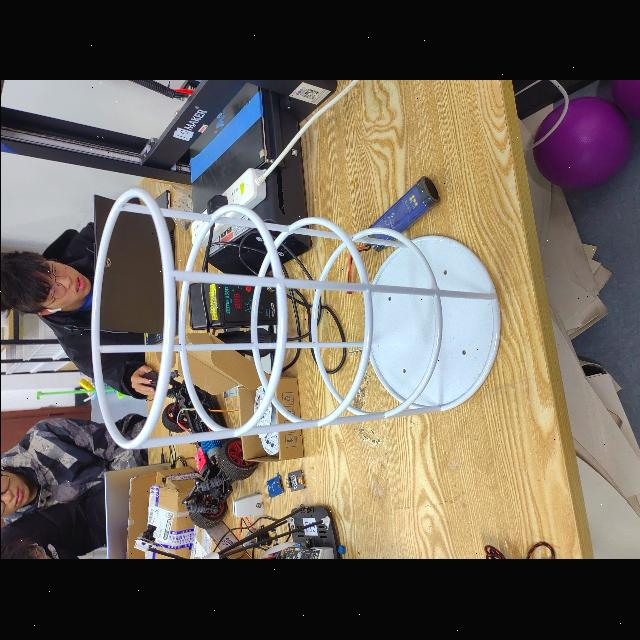S: (82, 184, 506, 454)
